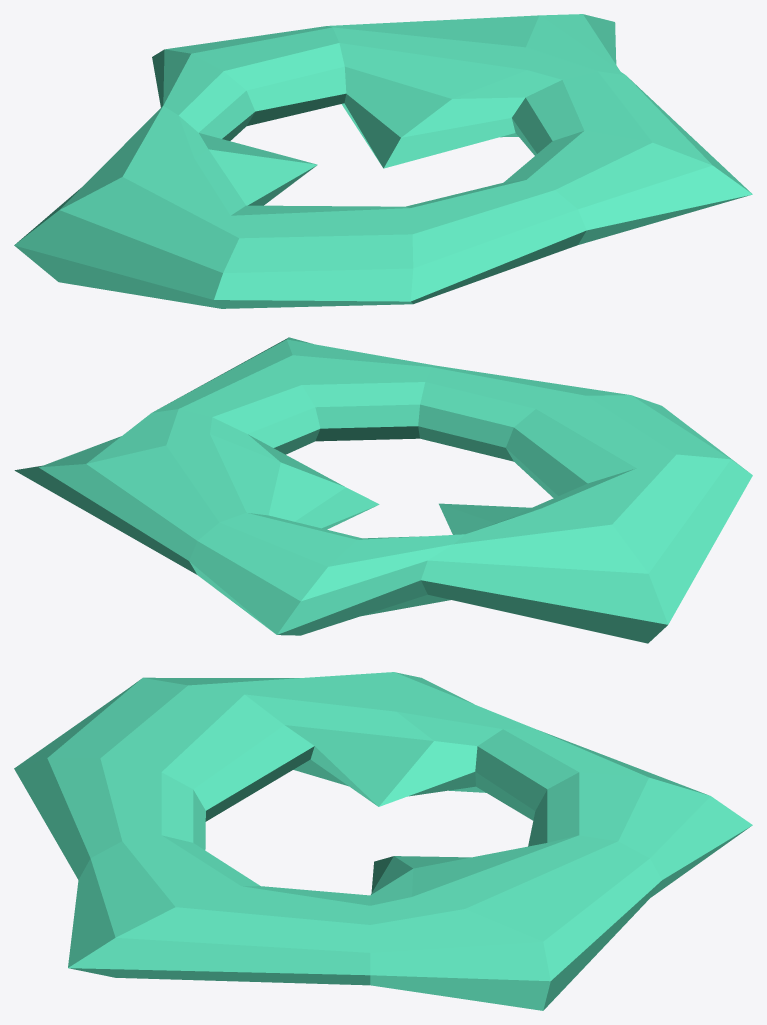
Rendered from stickers_05.fbx.
3 views of the same model, one above another, from view 1: azimuth 30°, elevation 25°; view 2: azimuth 150°, elevation 25°; view 3: azimuth 270°, elevation 25° (orthographic). The views are drawn at different scales.
Visible parts, largest first — view 1: pTorus1; view 2: pTorus1; view 3: pTorus1.
Boxes of the visible parts, left/top/right/bottom form: pTorus1: left=14, top=14, right=752, bottom=308; pTorus1: left=14, top=337, right=752, bottom=643; pTorus1: left=14, top=672, right=752, bottom=1010.
Size of the model in its own units: 3.11 by 0.4751 by 2.77.
